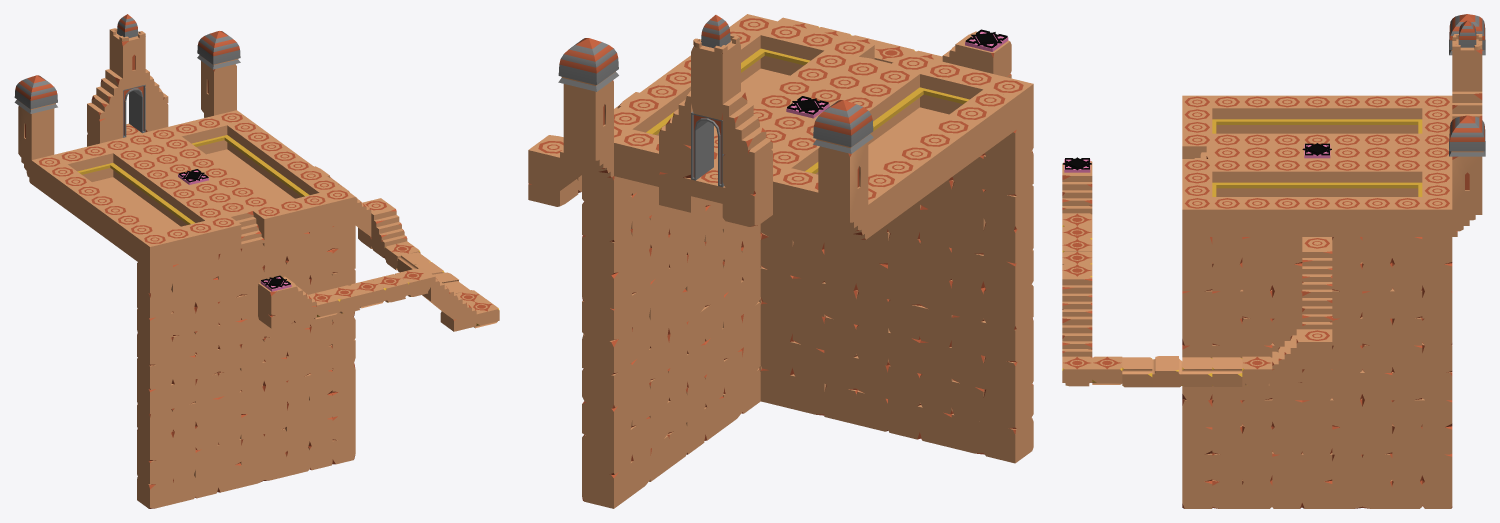
The model's file is Stage1-1.fbx.
3 renders of one model, left to right at view 1: azimuth 30°, elevation 25°; view 2: azimuth 150°, elevation 25°; view 3: azimuth 270°, elevation 25°, orthographic. The views are drawn at different scales.
Parts seen in each view (by area): view 1: Box294, Box416, Box436, Door004, Box499, Box404, Box490, Box492, Box489, Box491, Box480, Box493; view 2: Box294, Box416, Door004, Box437, Box499, Box481, Box414, Line005, Line006, Box407, Box406, Box410; view 3: Box294, Box416, Box433, Box437, Box487, Box434, Box494, Box486, Box476, Box478, Box474, Box480 (+4 smaller).
Boxes of the visible parts, bbox=[...] form: Box294: bbox=[137, 221, 355, 508]; Box416: bbox=[14, 14, 355, 270]; Box436: bbox=[371, 208, 407, 246]; Door004: bbox=[123, 84, 145, 137]; Box499: bbox=[258, 282, 293, 315]; Box404: bbox=[228, 209, 264, 248]; Box490: bbox=[372, 274, 408, 302]; Box492: bbox=[327, 285, 362, 313]; Box489: bbox=[395, 268, 430, 296]; Box491: bbox=[350, 279, 385, 308]; Box480: bbox=[468, 299, 499, 328]; Box493: bbox=[308, 290, 339, 319]; Box294: bbox=[582, 117, 1033, 508]; Box416: bbox=[558, 14, 1033, 239]; Door004: bbox=[691, 111, 724, 187]; Box437: bbox=[528, 136, 563, 190]; Box499: bbox=[961, 40, 1011, 76]; Box481: bbox=[528, 179, 578, 206]; Box414: bbox=[691, 167, 722, 203]; Line005: bbox=[965, 29, 1008, 51]; Line006: bbox=[786, 96, 829, 118]; Box407: bbox=[820, 72, 869, 92]; Box406: bbox=[838, 58, 887, 79]; Box410: bbox=[765, 112, 813, 133]; Box294: bbox=[1182, 237, 1452, 508]; Box416: bbox=[1182, 14, 1485, 236]; Box433: bbox=[1302, 249, 1332, 289]; Box437: bbox=[1302, 329, 1332, 369]; Box487: bbox=[1062, 316, 1092, 356]; Box434: bbox=[1302, 289, 1332, 329]; Box494: bbox=[1062, 173, 1092, 213]; Box486: bbox=[1062, 277, 1092, 316]; Box476: bbox=[1152, 356, 1182, 387]; Box478: bbox=[1122, 357, 1152, 387]; Box474: bbox=[1242, 356, 1272, 386]; Box480: bbox=[1062, 356, 1092, 386].
Size of the model in its own units: 263 by 317 by 282.
